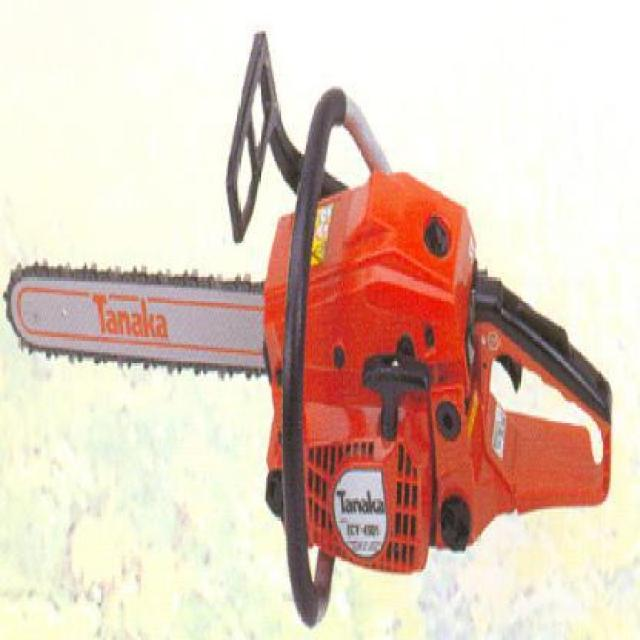Chainsaw: (1, 25, 618, 617)
